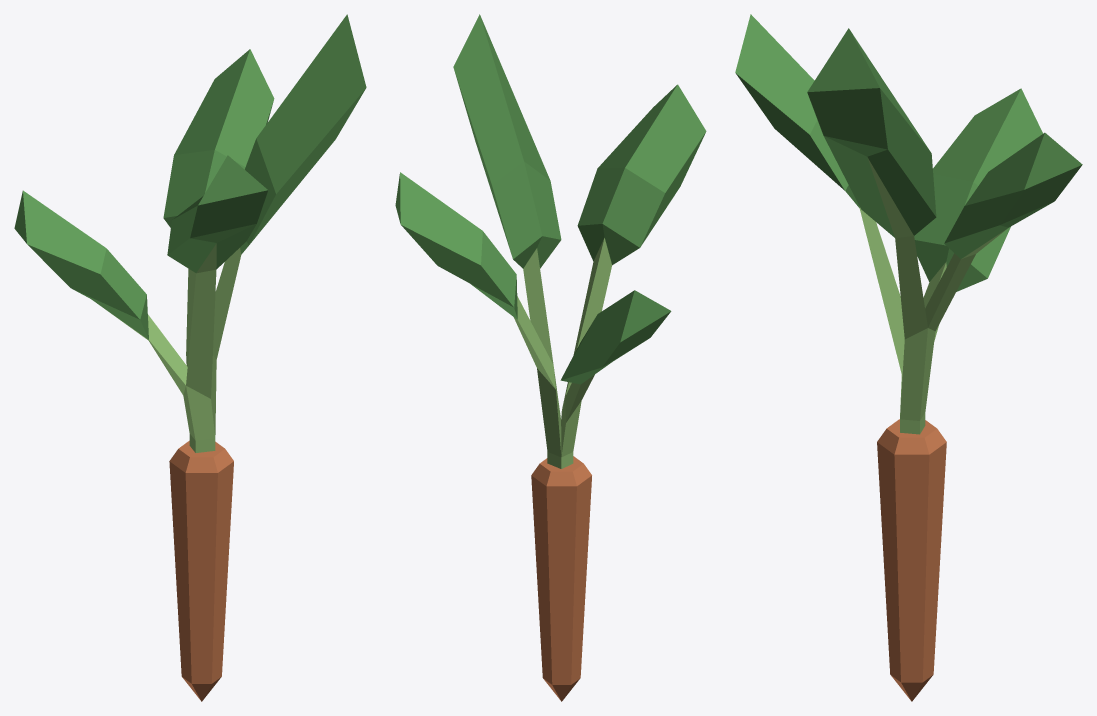
Rendered from SM_Env_Plant_Carrot_01.fbx.
3 views of the same model, side by side, from view 1: azimuth 30°, elevation 25°; view 2: azimuth 150°, elevation 25°; view 3: azimuth 270°, elevation 25° (orthographic). The views are drawn at different scales.
Visible parts, largest first — view 1: SM_Env_Plant_Carrot_01; view 2: SM_Env_Plant_Carrot_01; view 3: SM_Env_Plant_Carrot_01.
Part boxes in pixels (x1,y1,x2,y2): SM_Env_Plant_Carrot_01: [14, 14, 366, 701]; SM_Env_Plant_Carrot_01: [395, 14, 706, 701]; SM_Env_Plant_Carrot_01: [735, 14, 1082, 701].
Bounding box in the file's own units: 39.6 × 93.51 × 40.06.
